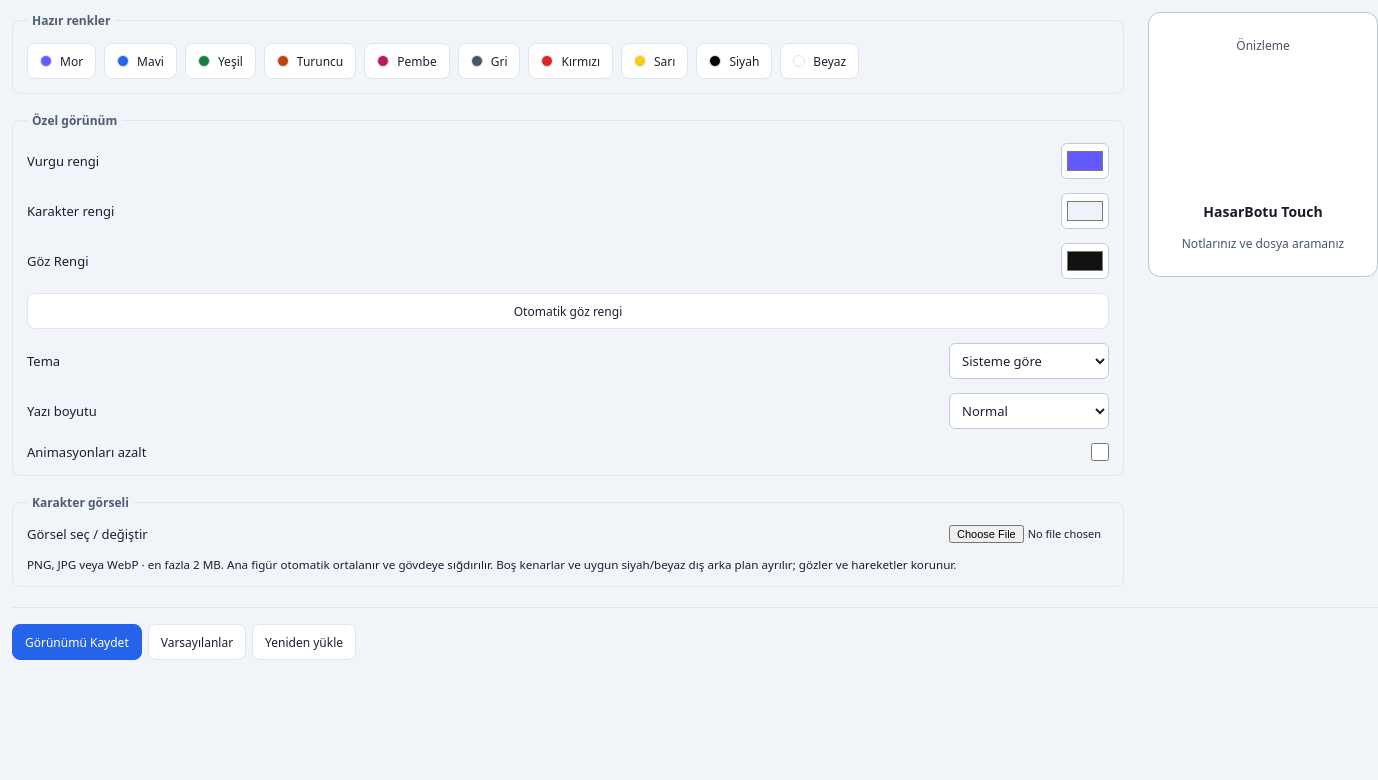
Scenario: Touch appearance › saves a preset without leaking UI labels into the strict preference contract
The image size is (1378, 780).
What coordinates should you click on to do the following:
click the button "Yeşil"
I would click on:
 (220, 61)
Its box is [185,43,256,79].
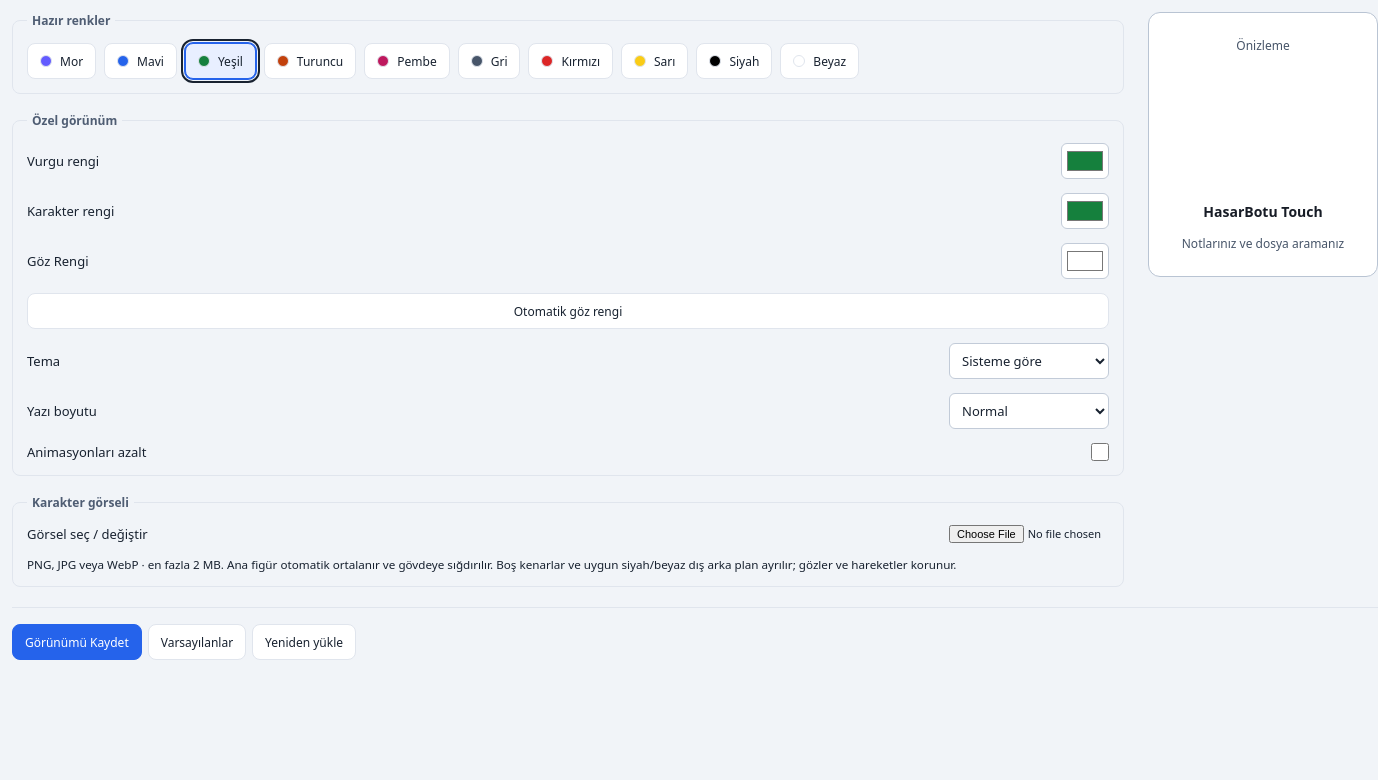
What coordinates should you click on to do the following:
click the button "Görünümü Kaydet"
I would click on:
 (77, 642)
Its box is [12,624,142,660].
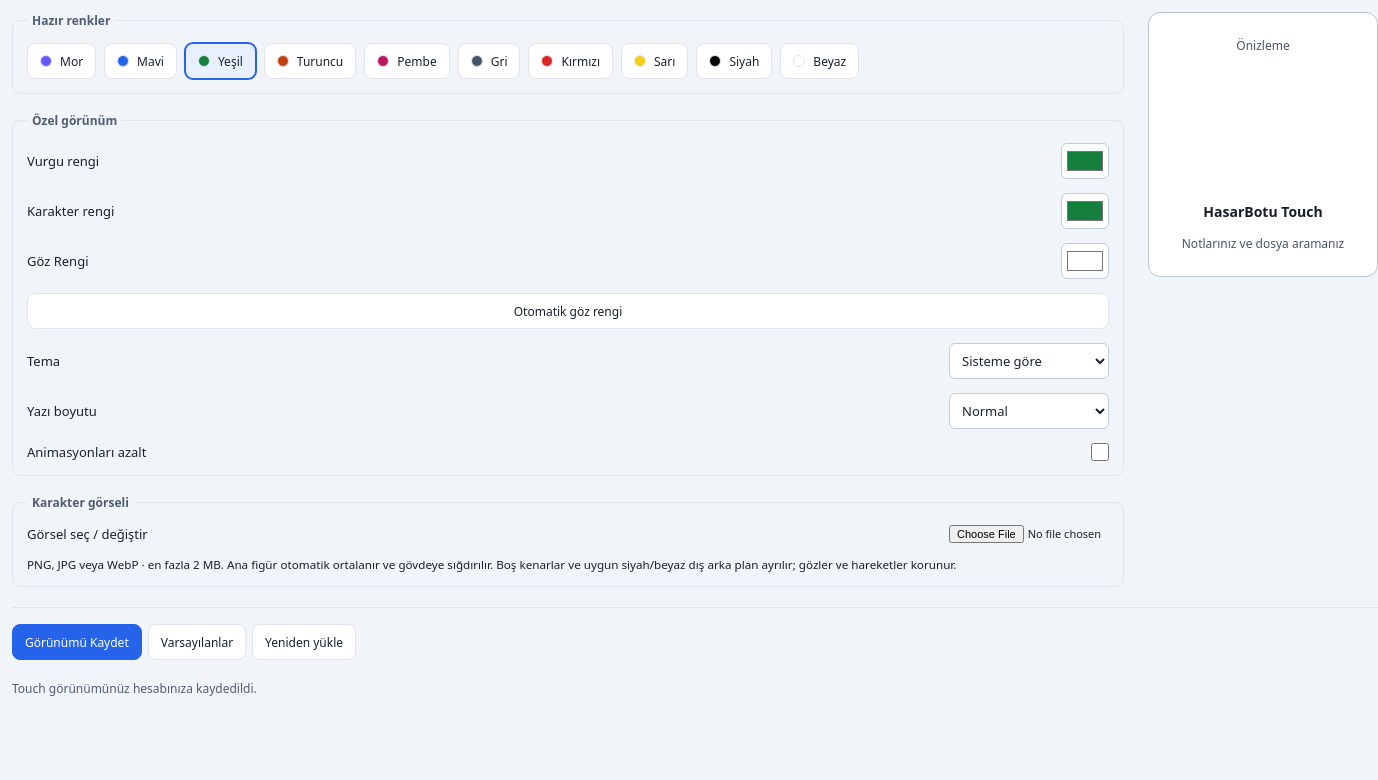
Now the message shows "hesabınıza kaydedildi", box [12,680,257,697]
